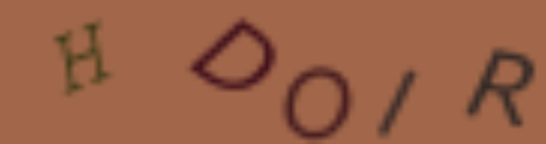D: (186, 13, 278, 94)
H: (51, 16, 109, 97)
I: (366, 63, 422, 142)
O: (281, 65, 353, 143)
R: (458, 42, 537, 129)
